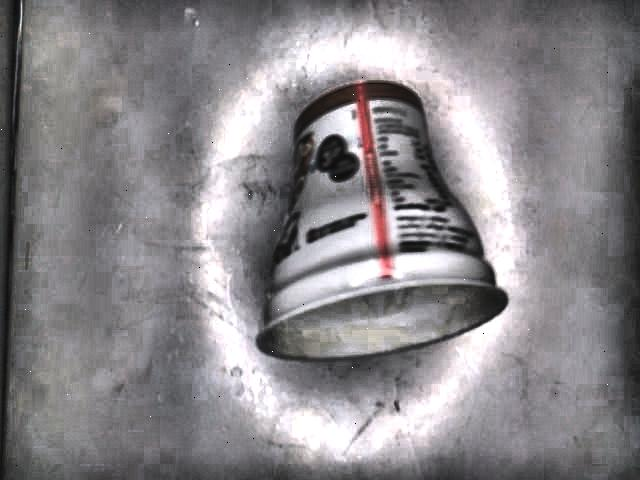Plastic: (254, 84, 509, 363)
